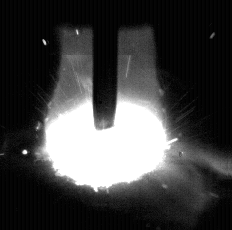arame: (93, 0, 118, 129)
poca: (45, 0, 169, 230)
